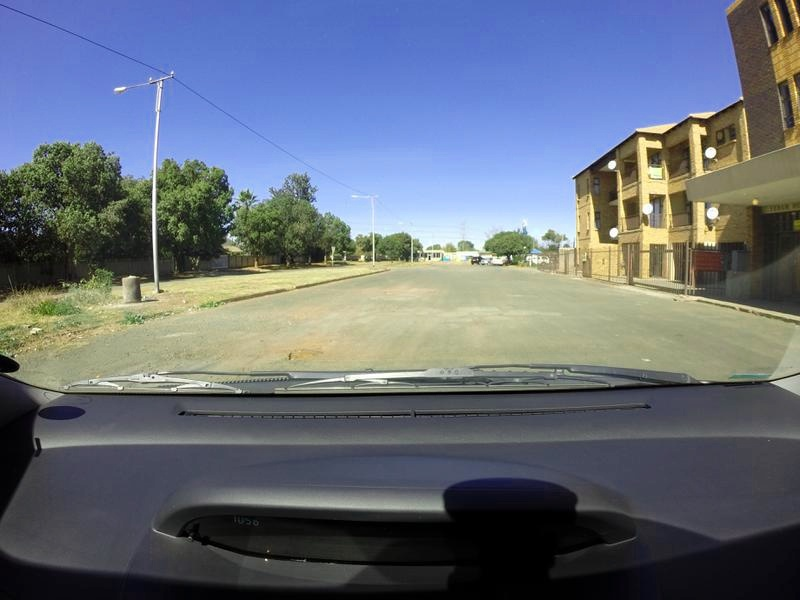pothole: (284, 348, 321, 358), (177, 348, 211, 357)
